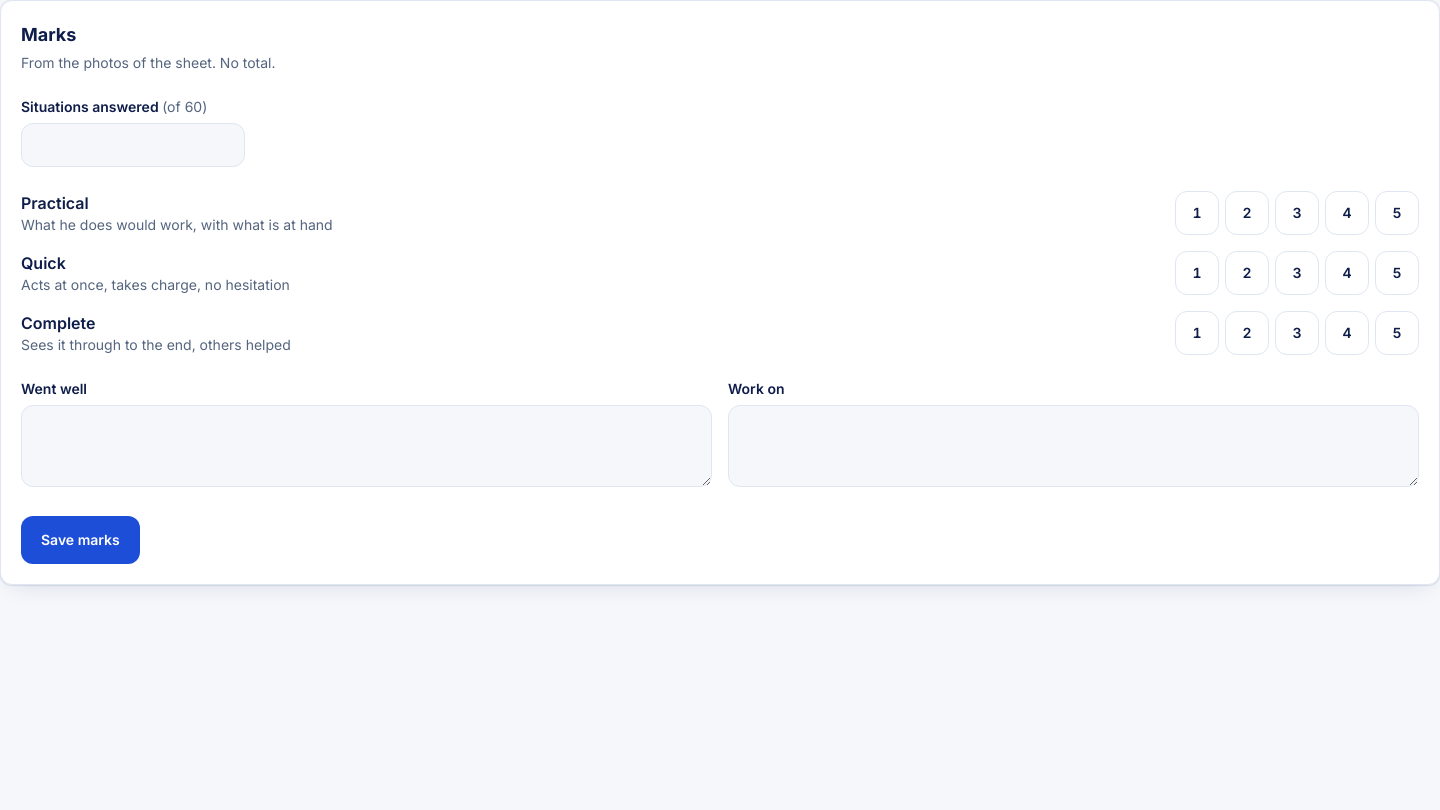
Test: SrtReviewForm › says what is missing before saving
Click the button "Save marks".
click(80, 540)  # box x1=21 y1=516 x2=140 y2=564
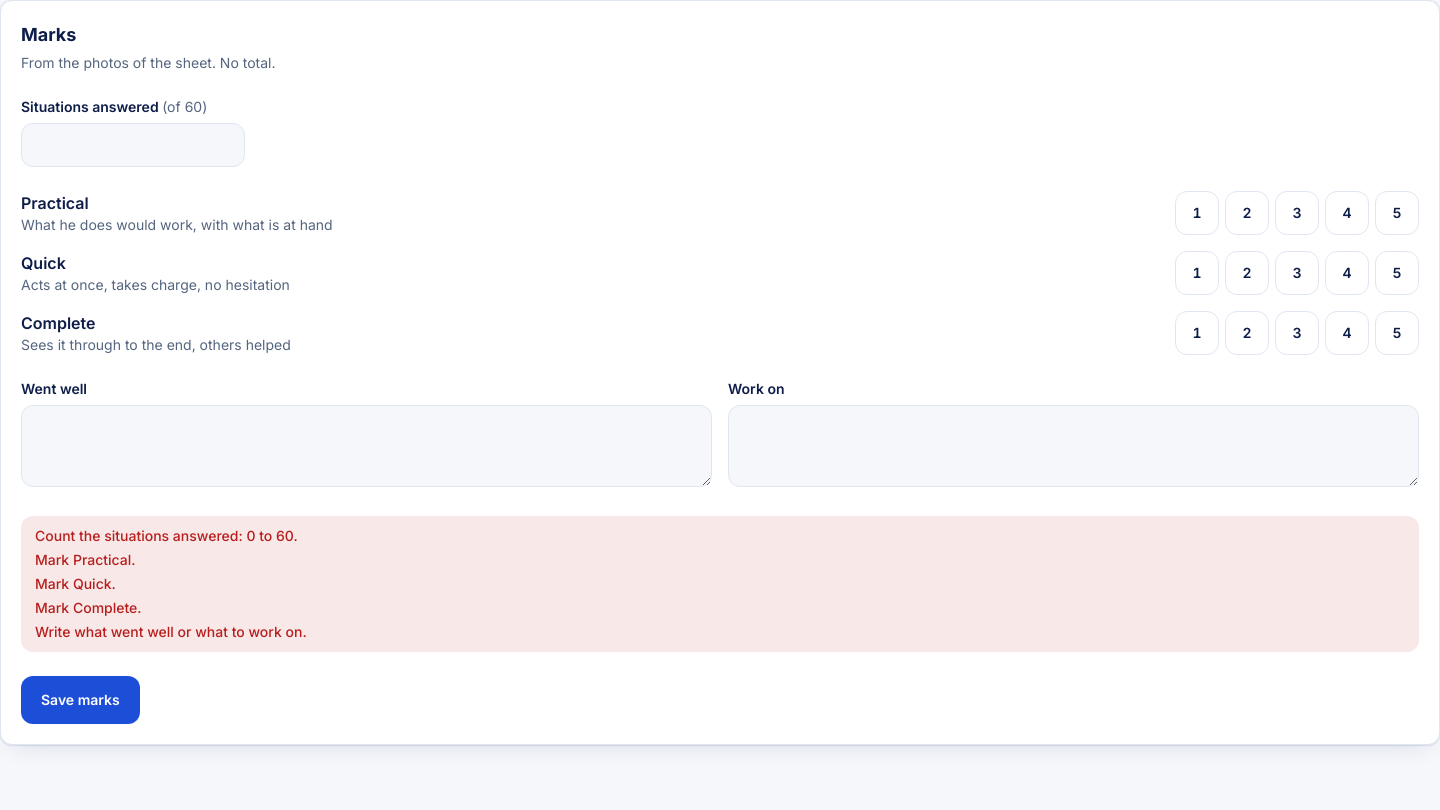
Check: the message shows "Count the situations answered", box x1=35 y1=527 x2=298 y2=544
